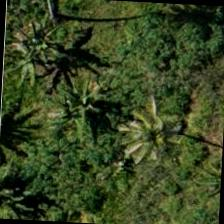Kelapa_Sawit: (110, 89, 204, 184), (0, 2, 90, 96)
